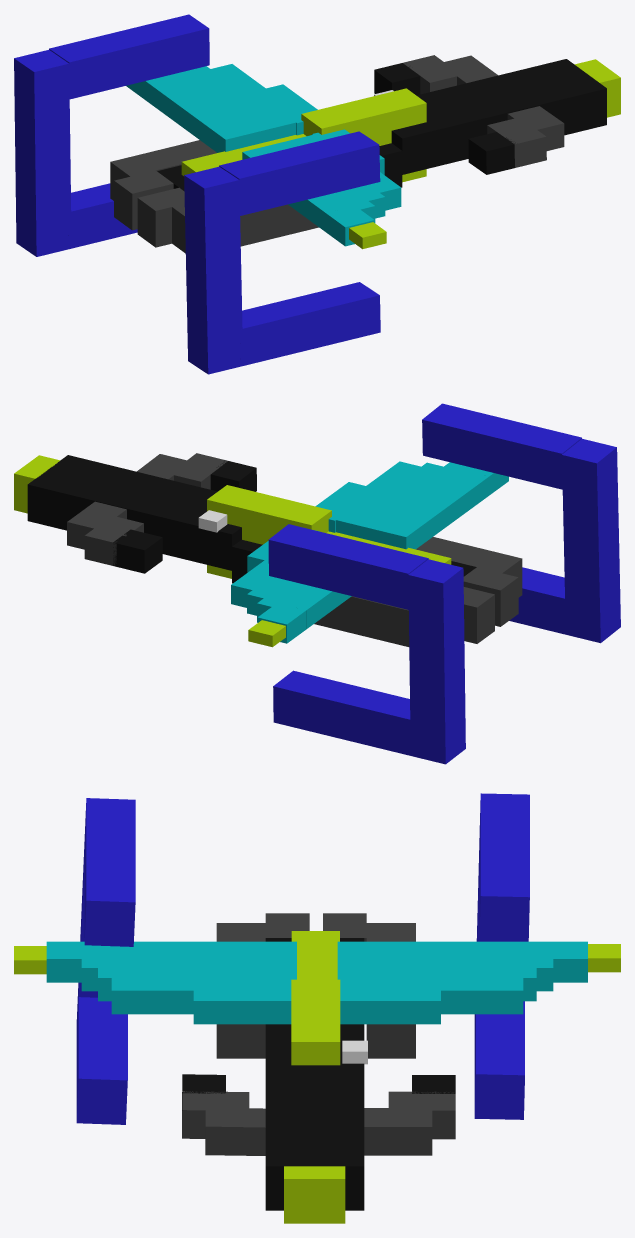
The model's file is player 1.fbx.
3 renders of one model, top to bottom at view 1: azimuth 30°, elevation 25°; view 2: azimuth 150°, elevation 25°; view 3: azimuth 270°, elevation 25°, orthographic. The views are drawn at different scales.
Parts seen in each view (by area): view 1: Box024, Box077, Box076, Box025, Box023, Box003, Box007, Box001, Box002, Box078, Box008, Box010 (+29 smaller); view 2: Box077, Box024, Box025, Box076, Box078, Box003, Box007, Box001, Box002, Box013, Box023, Box010 (+28 smaller); view 3: Box025, Box076, Box023, Box003, Box078, Box007, Box002, Box016, Box001, Box013, Box008, Box032 (+59 smaller).
Part boxes in pixels (x1,y1,x2,y2): Box024: [184, 166, 242, 374]; Box077: [14, 50, 71, 256]; Box076: [49, 14, 209, 99]; Box025: [219, 131, 380, 215]; Box023: [240, 282, 380, 366]; Box003: [497, 59, 606, 135]; Box007: [301, 88, 426, 182]; Box001: [391, 91, 470, 174]; Box002: [432, 75, 540, 137]; Box078: [68, 183, 137, 249]; Box008: [240, 204, 318, 246]; Box010: [137, 187, 184, 247]; Box077: [408, 559, 465, 764]; Box024: [562, 438, 620, 643]; Box025: [422, 403, 581, 489]; Box076: [268, 524, 428, 609]; Box078: [273, 670, 410, 755]; Box003: [27, 455, 136, 530]; Box007: [207, 485, 331, 578]; Box001: [162, 488, 241, 570]; Box002: [94, 471, 203, 536]; Box013: [314, 596, 409, 646]; Box023: [509, 567, 565, 634]; Box010: [463, 567, 518, 626]; Box025: [84, 817, 135, 946]; Box076: [479, 813, 529, 941]; Box023: [76, 997, 127, 1124]; Box003: [265, 1124, 364, 1210]; Box078: [474, 1001, 524, 1119]; Box007: [291, 979, 340, 1065]; Box002: [265, 1085, 364, 1125]; Box016: [284, 1166, 345, 1223]; Box001: [265, 1044, 364, 1085]; Box013: [366, 934, 415, 1058]; Box008: [216, 934, 265, 1058]; Box032: [205, 1107, 249, 1155].
Size of the model in its own units: 144 by 50.65 by 123.
